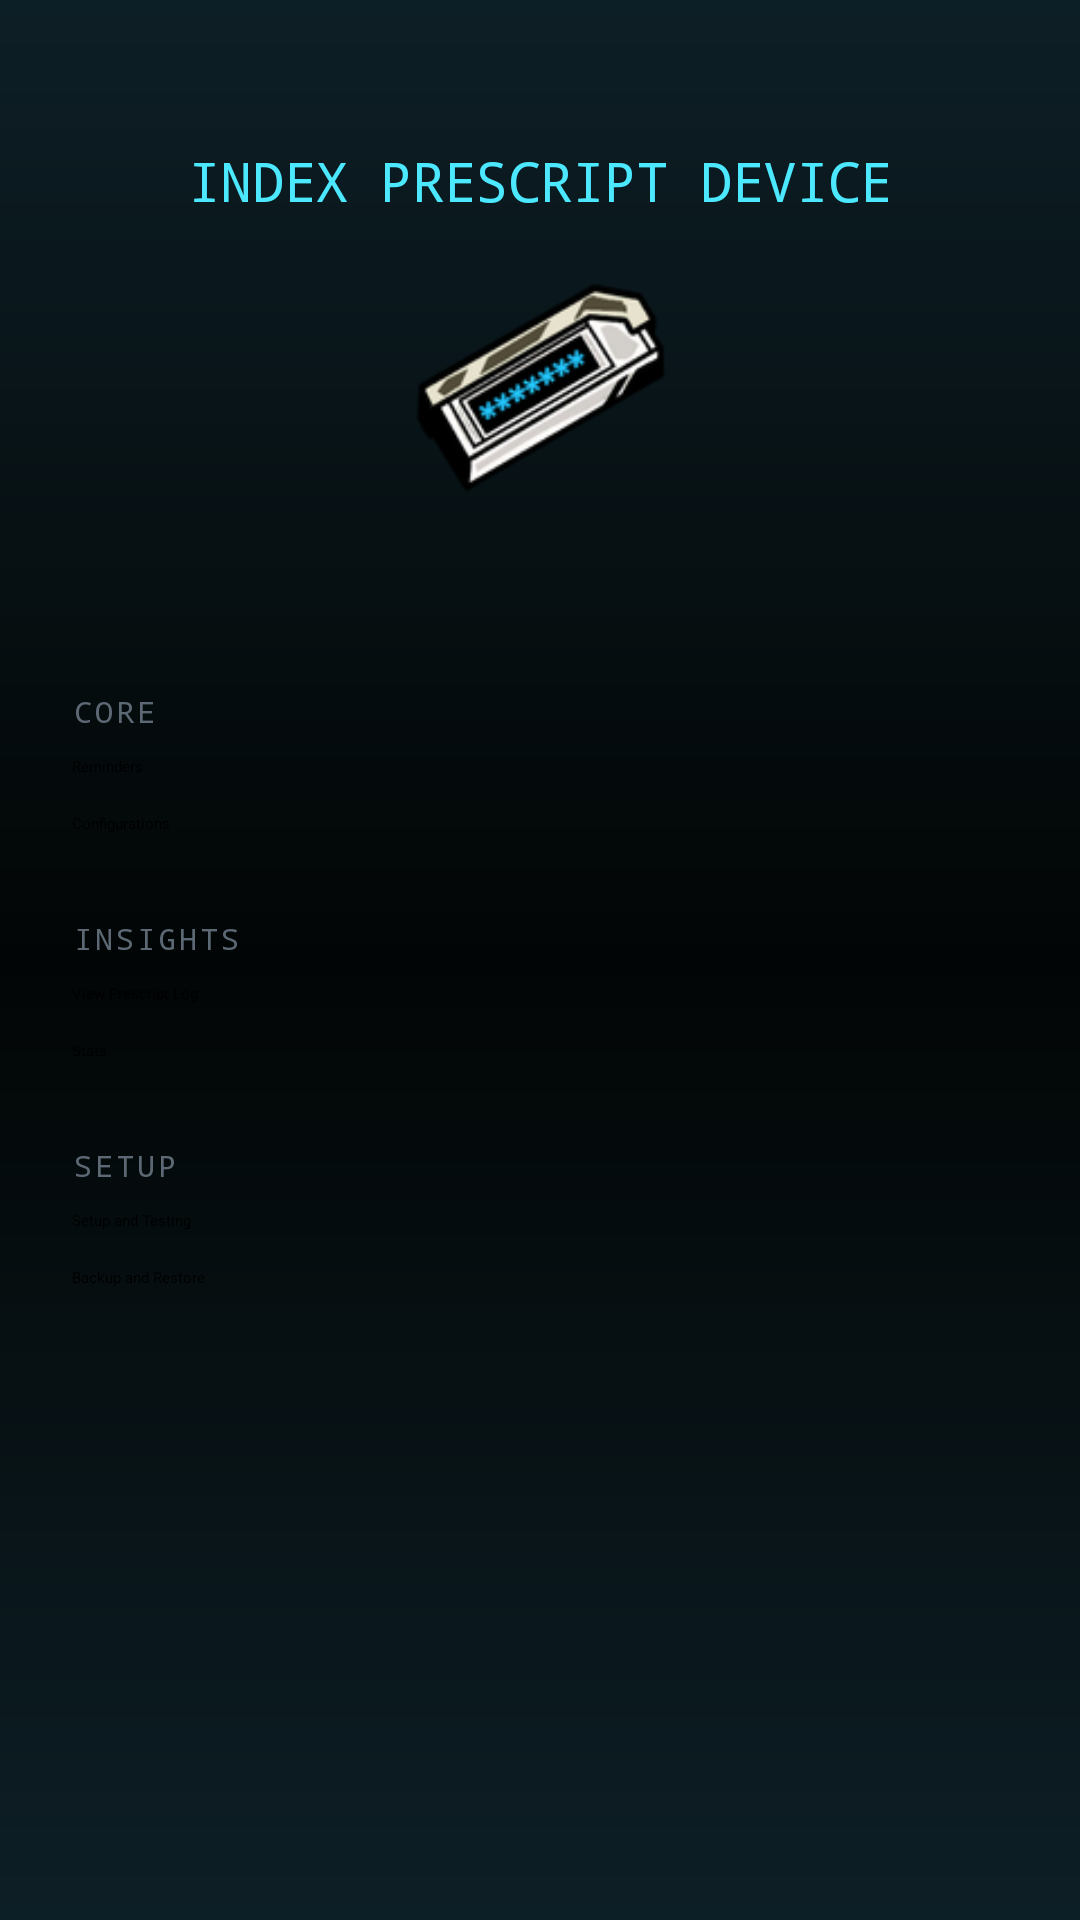

Icons on this 1080px x 1920px Android screen, each with its box as (x1, y1, x2, y2):
icdeviceicon: (425, 291, 659, 483)
